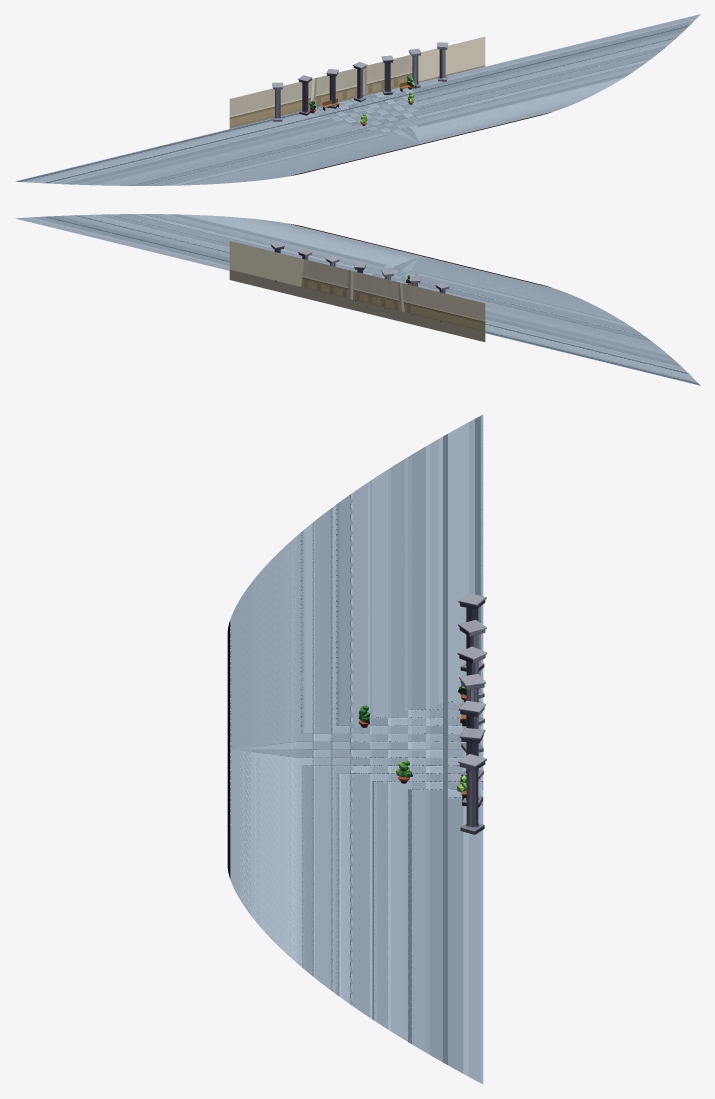
The model's file is bg_indoor.glb.
3 renders of one model, top to bottom at view 1: azimuth 30°, elevation 25°; view 2: azimuth 150°, elevation 25°; view 3: azimuth 270°, elevation 25°, orthographic. The views are drawn at different scales.
Visible parts, largest first — view 1: indoor_floor, indoor_wall, indoor_decor; view 2: indoor_floor, indoor_wall, indoor_decor; view 3: indoor_floor, indoor_decor.
Boxes of the visible parts, bbox=[...] form: indoor_floor: bbox=[15, 14, 700, 185]; indoor_wall: bbox=[229, 37, 485, 128]; indoor_decor: bbox=[272, 42, 448, 125]; indoor_floor: bbox=[15, 214, 700, 385]; indoor_wall: bbox=[229, 241, 485, 341]; indoor_decor: bbox=[270, 242, 449, 322]; indoor_floor: bbox=[227, 414, 483, 1084]; indoor_decor: bbox=[358, 593, 487, 834].
Bounding box in the file's own units: 80 × 4.9 × 13.1.
3 materials, 2 textured.
